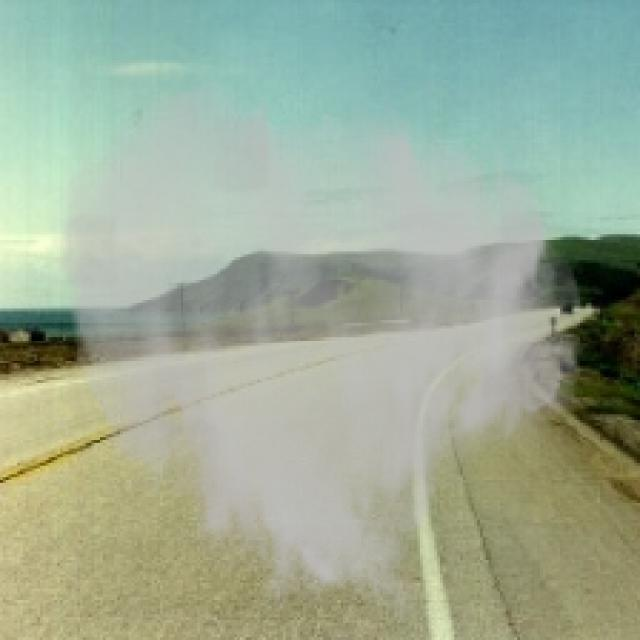Smoke: (46, 77, 588, 626)
